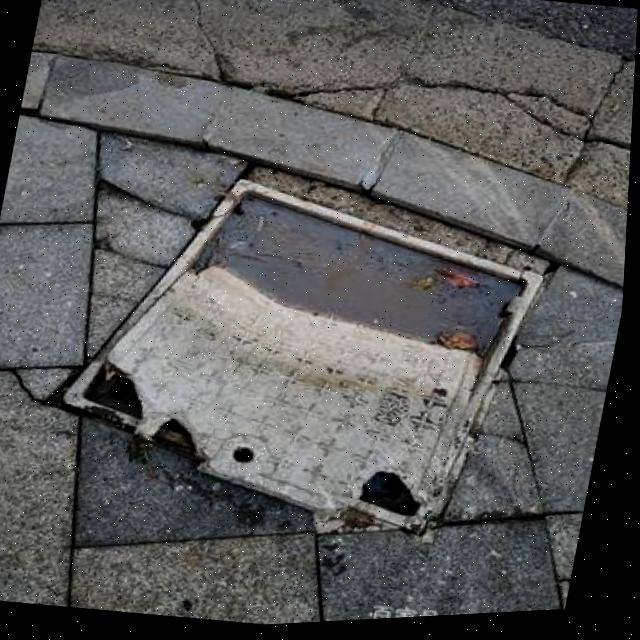manhole: (38, 131, 566, 566)
